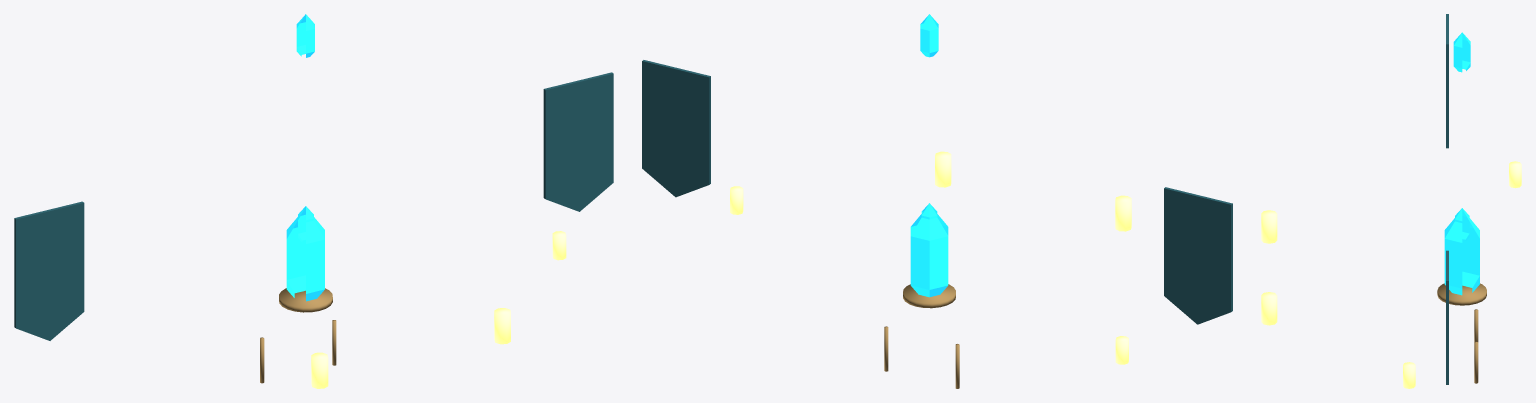
The model's file is Catalog-28.glb.
3 renders of one model, left to right at view 1: azimuth 30°, elevation 25°; view 2: azimuth 150°, elevation 25°; view 3: azimuth 270°, elevation 25°, orthographic. The views are drawn at different scales.
Parts seen in each view (by area): view 1: Neris Teal Banner, Cyan Relay Crystal (×2), Warm Lantern, Aged Gold; view 2: Neris Teal Banner, Cyan Relay Crystal (×2), Warm Lantern, Aged Gold; view 3: Cyan Relay Crystal (×3), Warm Lantern (×2), Aged Gold (×2), Neris Teal Banner.
Part boxes in pixels (x1,y1,x2,y2): Neris Teal Banner: (14,72,613,340); Cyan Relay Crystal (×2): (286,14,324,301); Warm Lantern: (312,231,566,388); Aged Gold: (279,288,332,312); Neris Teal Banner: (642,60,1232,324); Cyan Relay Crystal (×2): (910,14,948,297); Warm Lantern: (730,151,1131,364); Aged Gold: (903,284,955,308); Cyan Relay Crystal (×3): (1444,32,1479,295); Warm Lantern (×2): (1261,161,1521,388); Aged Gold (×2): (1437,283,1486,383); Neris Teal Banner: (1446,14,1448,384).
Bounding box in the file's own units: 14.9 × 8.7 × 6.14.
